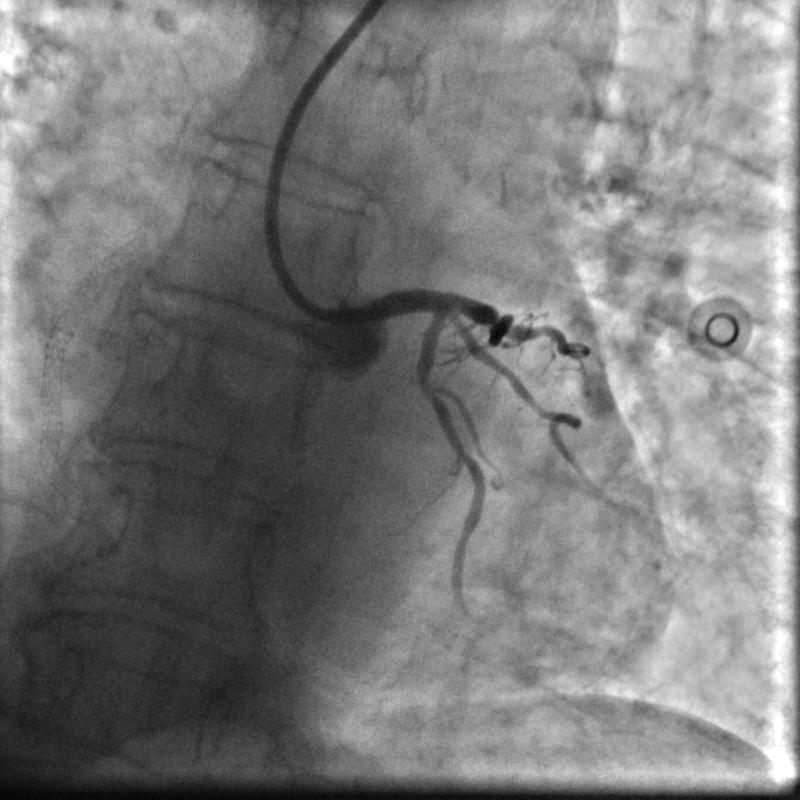Stenosis: (414, 375, 445, 400)
